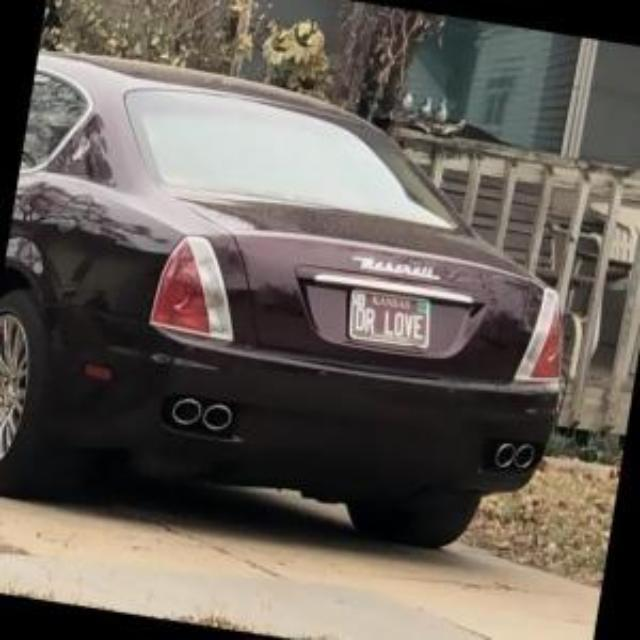License Plate: (349, 290, 430, 348)
